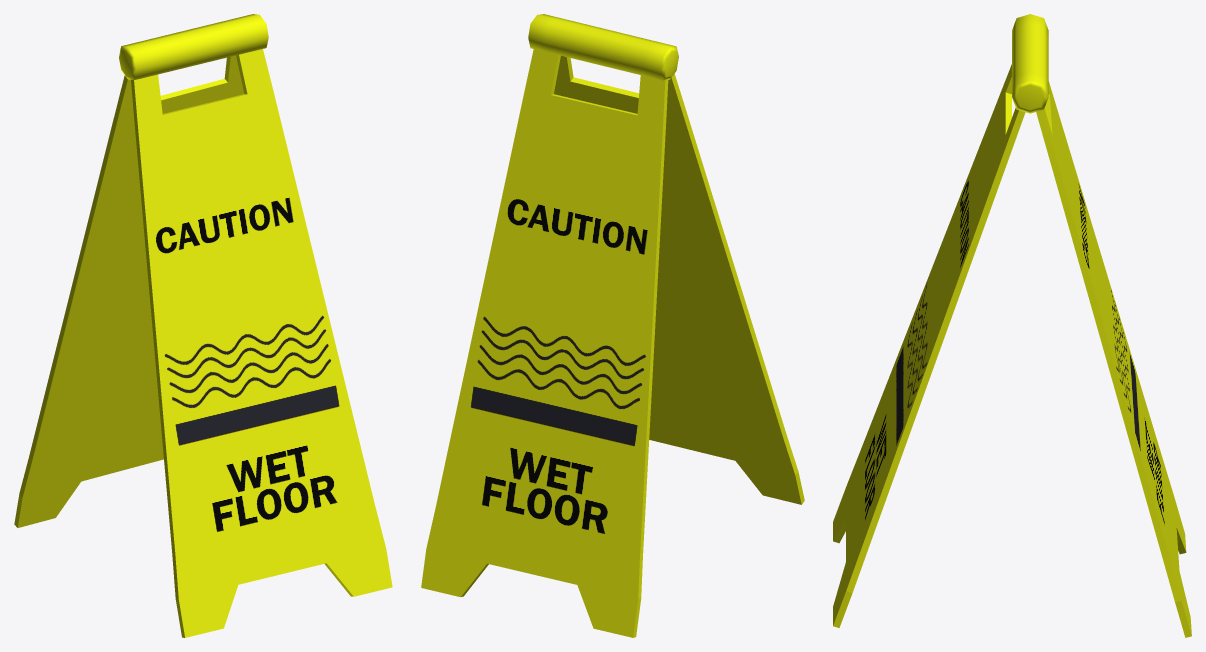
Rendered from WetFloorSign_GEO.fbx.
3 views of the same model, side by side, from view 1: azimuth 30°, elevation 25°; view 2: azimuth 150°, elevation 25°; view 3: azimuth 270°, elevation 25° (orthographic). The views are drawn at different scales.
Visible parts, largest first — view 1: Side1, Side2, Top; view 2: Side2, Side1, Top; view 3: Side1, Side2, Top.
Boxes of the visible parts, x1=… form: Side1: x1=131, y1=49, x2=392, y2=637; Side2: x1=14, y1=55, x2=244, y2=527; Top: x1=119, y1=14, x2=268, y2=79; Side2: x1=421, y1=49, x2=668, y2=637; Side1: x1=554, y1=55, x2=804, y2=504; Top: x1=528, y1=14, x2=678, y2=80; Side1: x1=833, y1=64, x2=1025, y2=627; Side2: x1=1036, y1=81, x2=1191, y2=637; Top: x1=1012, y1=14, x2=1048, y2=113.
Bounding box in the file's own units: 5.31 × 12.81 × 7.71.
